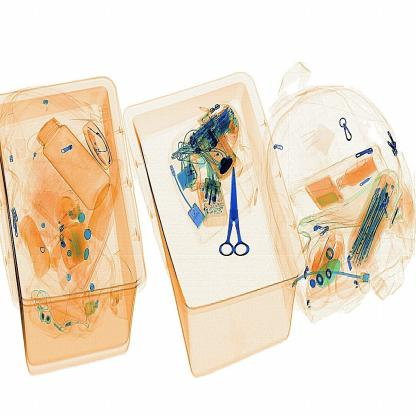gun: (214, 152, 257, 284)
